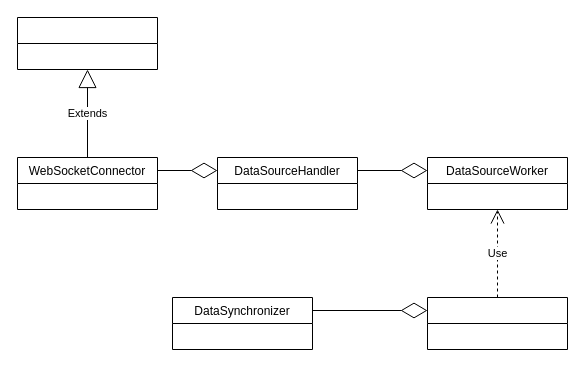
This 585x367 diagram has some shape labels left out. The box of each missing label's shape, as (x1, y1, x2, y2) in pixels:
DataConnector: (16, 16, 158, 70)
DataSource: (426, 296, 568, 350)
